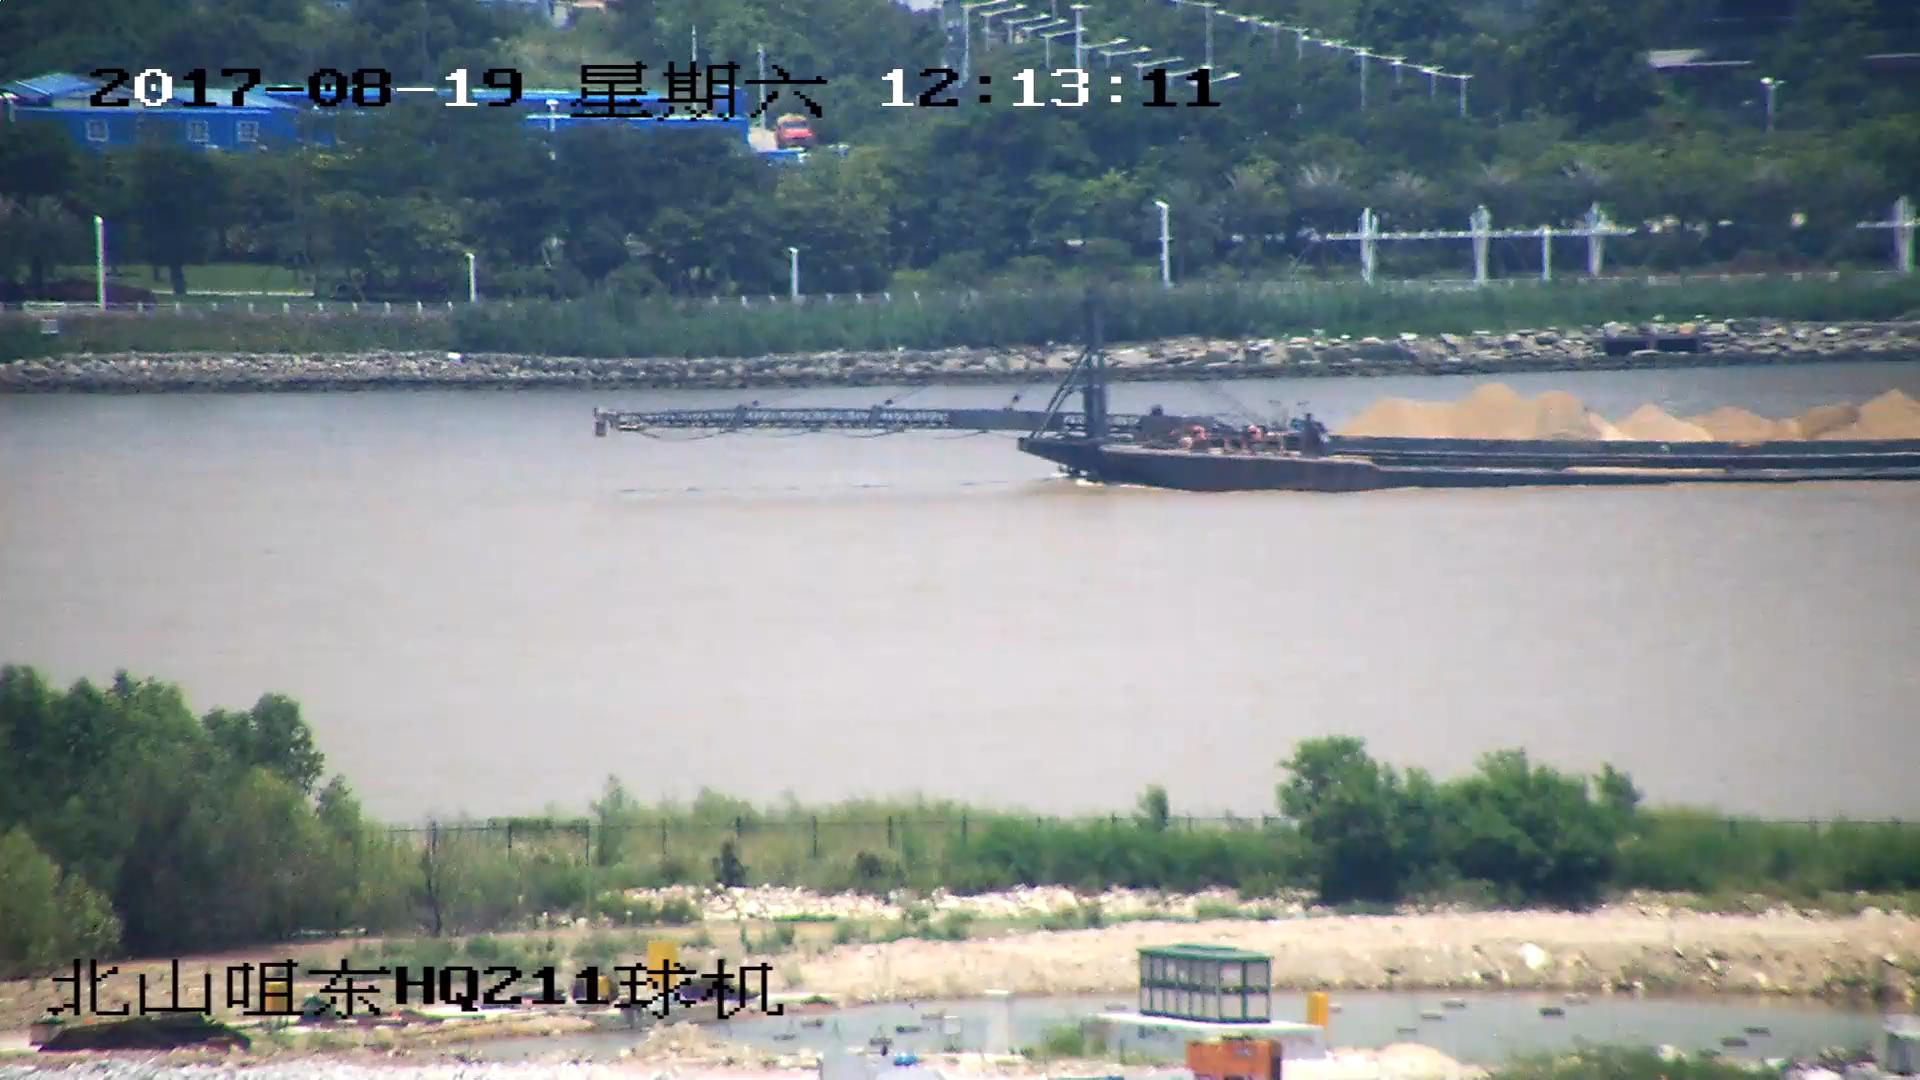ore carrier: (589, 292, 1920, 494)
